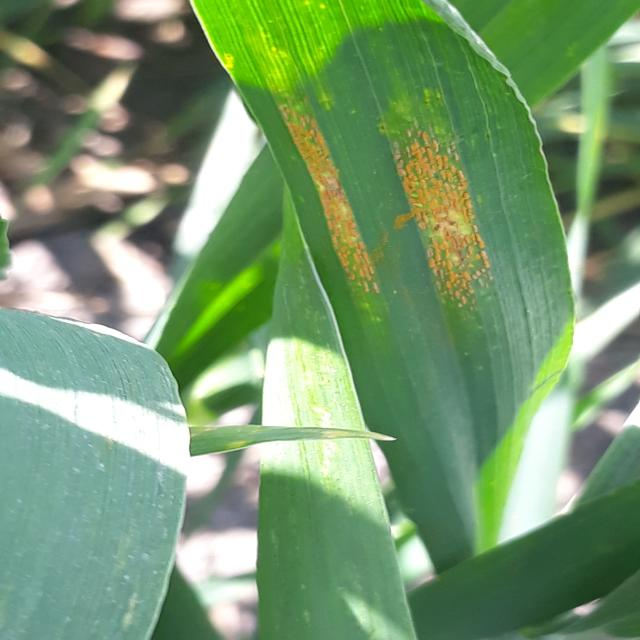yellow_rust: (172, 9, 602, 442)
